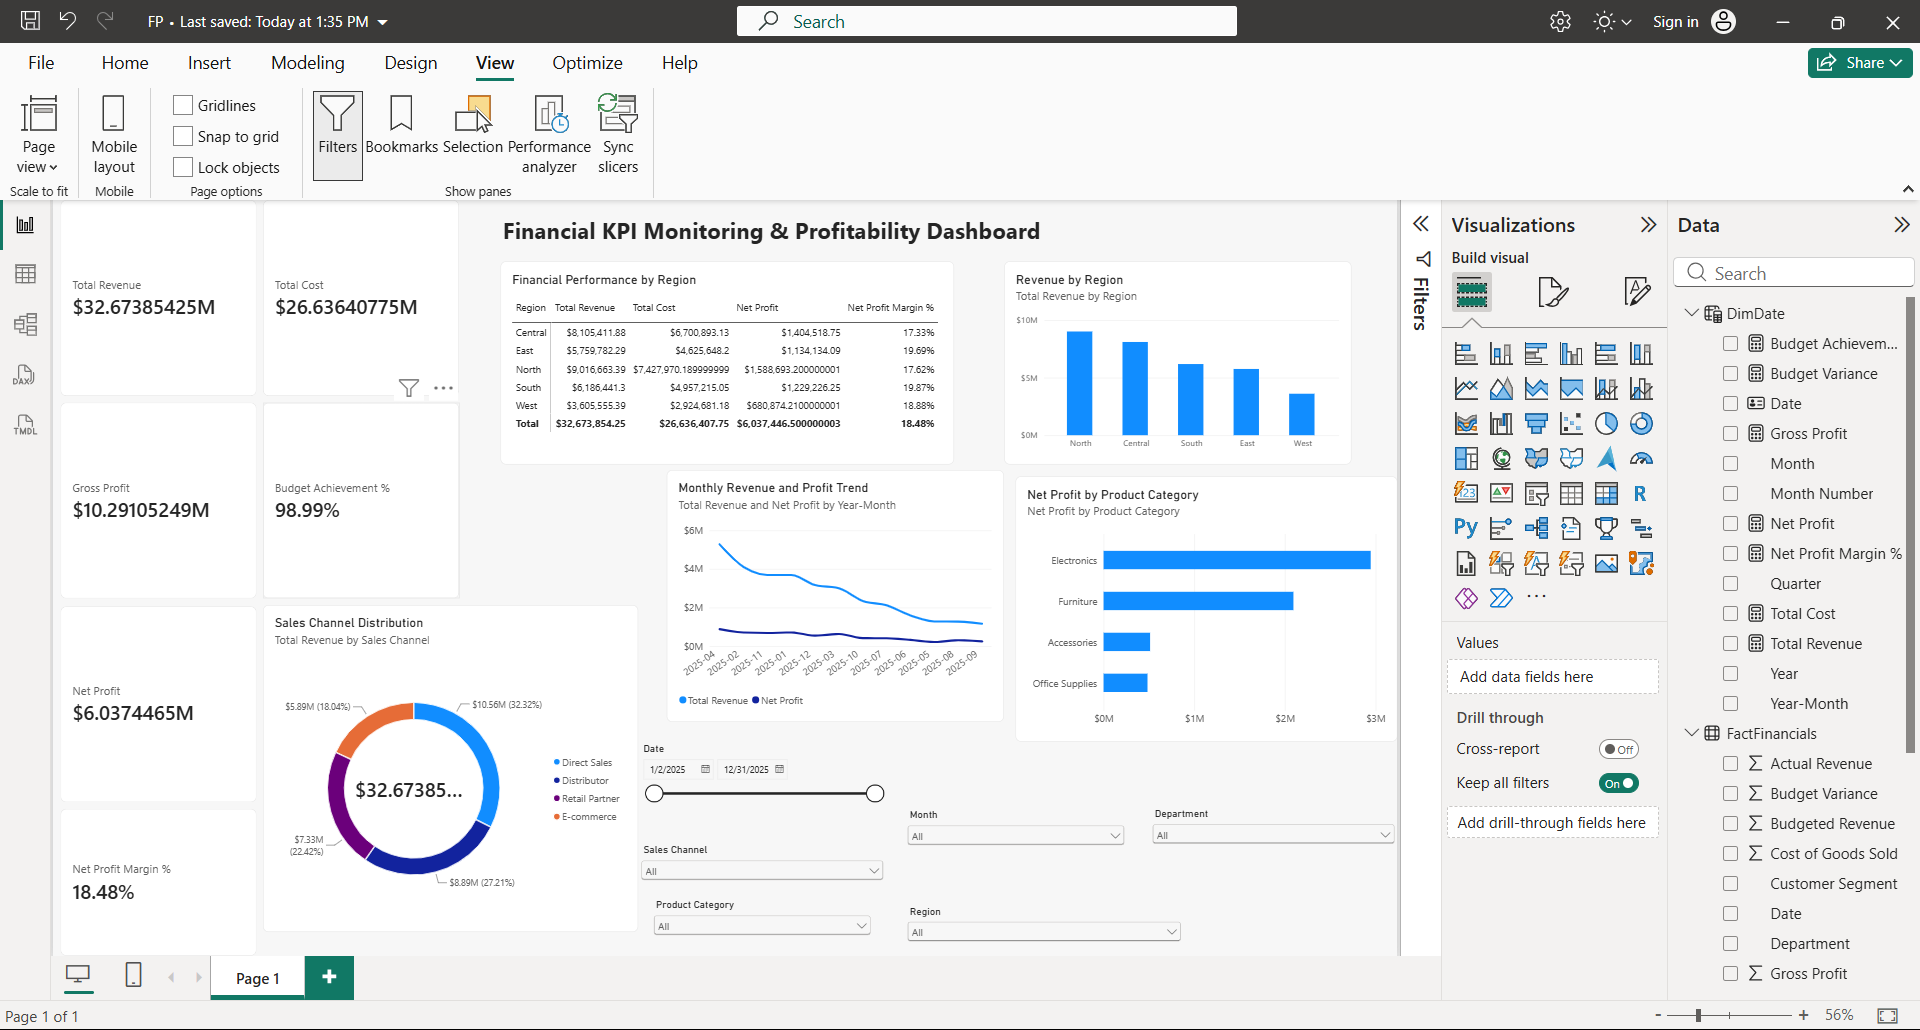

The page's visual inventory and layout, read from the dashboard file:
{"tool":"powerbi","page":{"name":"Page 1","canvas":[1920,1080],"ordinal":0},"visuals":[{"type":"cardVisual","fields":{"Data":["DimDate.Total Revenue"]},"box":[10,0,280,280],"z":0},{"type":"cardVisual","fields":{"Data":["DimDate.Gross Profit"]},"box":[10,290,280,280],"z":1000},{"type":"cardVisual","fields":{"Data":["DimDate.Net Profit"]},"box":[10,580,280,280],"z":2000},{"type":"cardVisual","fields":{"Data":["DimDate.Net Profit Margin %"]},"box":[10,870,280,210],"z":3000},{"type":"cardVisual","fields":{"Data":["DimDate.Total Cost"]},"box":[300,0,280,280],"z":4000},{"type":"cardVisual","fields":{"Data":["DimDate.Budget Achievement %"]},"box":[300,290,280,280],"z":5000},{"type":"clusteredColumnChart","title":"Revenue by Region","fields":{"Category":["FactFinancials.Region"],"Y":["DimDate.Total Revenue"]},"box":[1358.2,88.2,495.6,290.7],"z":5001},{"type":"clusteredBarChart","title":"Net Profit by Product Category","fields":{"Category":["FactFinancials.Product Category"],"Y":["DimDate.Net Profit"]},"box":[1374.8,395.5,545.6,378.9],"z":5002},{"type":"lineChart","title":"Monthly Revenue and Profit Trend","fields":{"Category":["DimDate.Year-Month"],"Y":["DimDate.Total Revenue","DimDate.Net Profit"]},"box":[876.8,386,481.3,359.8],"z":5003},{"type":"donutChart","title":"Sales Channel Distribution","fields":{"Category":["FactFinancials.Sales Channel"],"Y":["DimDate.Total Revenue"]},"box":[300.2,579,536.1,467],"z":5004},{"type":"pivotTable","title":"Financial Performance by Region","fields":{"Rows":["FactFinancials.Region"],"Values":["DimDate.Total Revenue","DimDate.Total Cost","DimDate.Net Profit","DimDate.Net Profit Margin %"]},"box":[638.6,88.2,648.1,290.7],"z":5005},{"type":"slicer","fields":{"Values":["FactFinancials.Region"]},"box":[1215.2,1007.9,400.3,71.5],"z":5006},{"type":"slicer","fields":{"Values":["FactFinancials.Sales Channel"]},"box":[836.3,919.7,355,90.5],"z":5007},{"type":"slicer","fields":{"Values":["FactFinancials.Department"]},"box":[1565.5,867.3,355,212.1],"z":5008},{"type":"slicer","fields":{"Values":["DimDate.Month"]},"box":[1215.2,869.7,319.3,83.4],"z":5009},{"type":"slicer","fields":{"Values":["FactFinancials.Product Category"]},"box":[853,998.4,319.3,81],"z":5010},{"type":"slicer","fields":{"Values":["DimDate.Date"]},"box":[836.3,774.4,355,191],"z":5011},{"type":"textbox","box":[643.3,21.4,772,78.6],"z":5012}]}

Visuals, with their boxes on the page's 1920x1080 design canvas (x1, y1, x2, y2). These are canvas units, not pixel positions in the 1920x1030 screenshot, which may show the page scaled, cropped or inside an application window:
cardVisual - DimDate.Total Revenue: left=10, top=0, right=290, bottom=280
cardVisual - DimDate.Gross Profit: left=10, top=290, right=290, bottom=570
cardVisual - DimDate.Net Profit: left=10, top=580, right=290, bottom=860
cardVisual - DimDate.Net Profit Margin %: left=10, top=870, right=290, bottom=1080
cardVisual - DimDate.Total Cost: left=300, top=0, right=580, bottom=280
cardVisual - DimDate.Budget Achievement %: left=300, top=290, right=580, bottom=570
"Revenue by Region" clusteredColumnChart: left=1358, top=88, right=1854, bottom=379
"Net Profit by Product Category" clusteredBarChart: left=1375, top=396, right=1920, bottom=774
"Monthly Revenue and Profit Trend" lineChart: left=877, top=386, right=1358, bottom=746
"Sales Channel Distribution" donutChart: left=300, top=579, right=836, bottom=1046
"Financial Performance by Region" pivotTable: left=639, top=88, right=1287, bottom=379
slicer - FactFinancials.Region: left=1215, top=1008, right=1616, bottom=1079
slicer - FactFinancials.Sales Channel: left=836, top=920, right=1191, bottom=1010
slicer - FactFinancials.Department: left=1566, top=867, right=1920, bottom=1079
slicer - DimDate.Month: left=1215, top=870, right=1534, bottom=953
slicer - FactFinancials.Product Category: left=853, top=998, right=1172, bottom=1079
slicer - DimDate.Date: left=836, top=774, right=1191, bottom=965
textbox: left=643, top=21, right=1415, bottom=100
